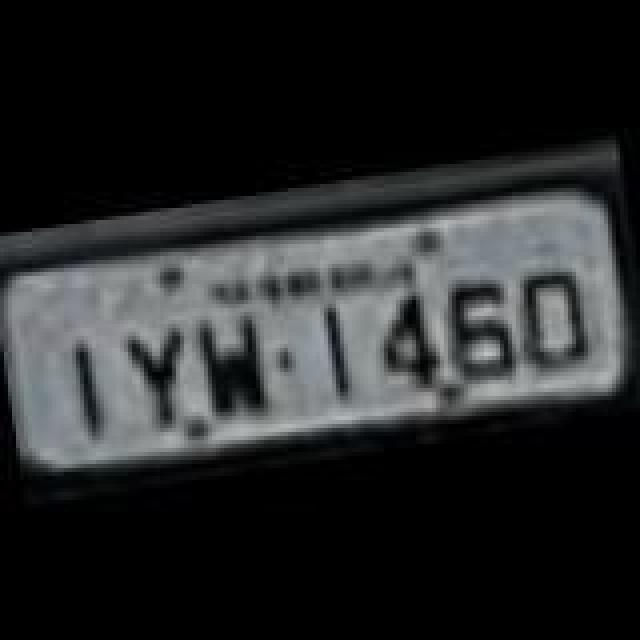1: (312, 302, 360, 402), (68, 332, 108, 436)
4: (366, 280, 450, 392)
6: (444, 274, 524, 382)
O: (510, 264, 594, 376)
W: (192, 312, 272, 424)
Y: (124, 320, 196, 432)
